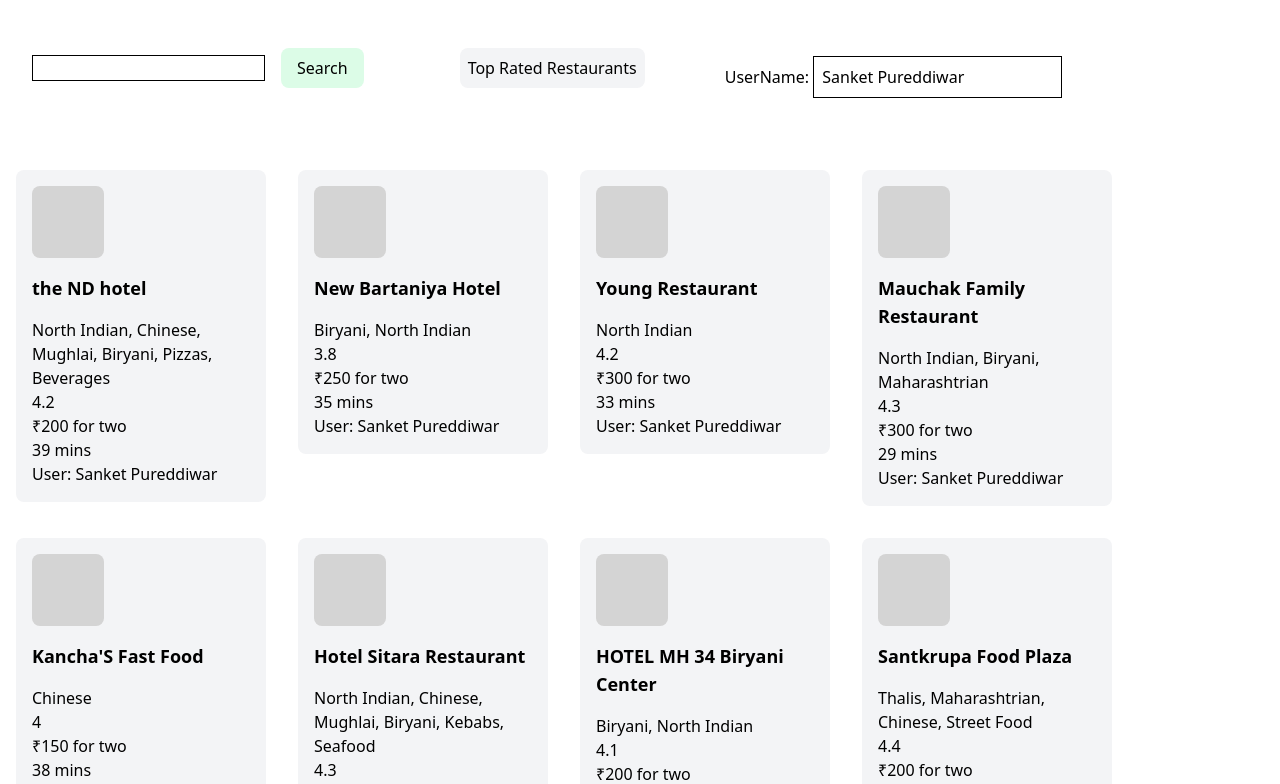
Test: Testing the search functionality › Should search res list for young restaurant input
Type "friends" into the field with test id "searchInput" at (148, 68), box [32, 55, 265, 81]
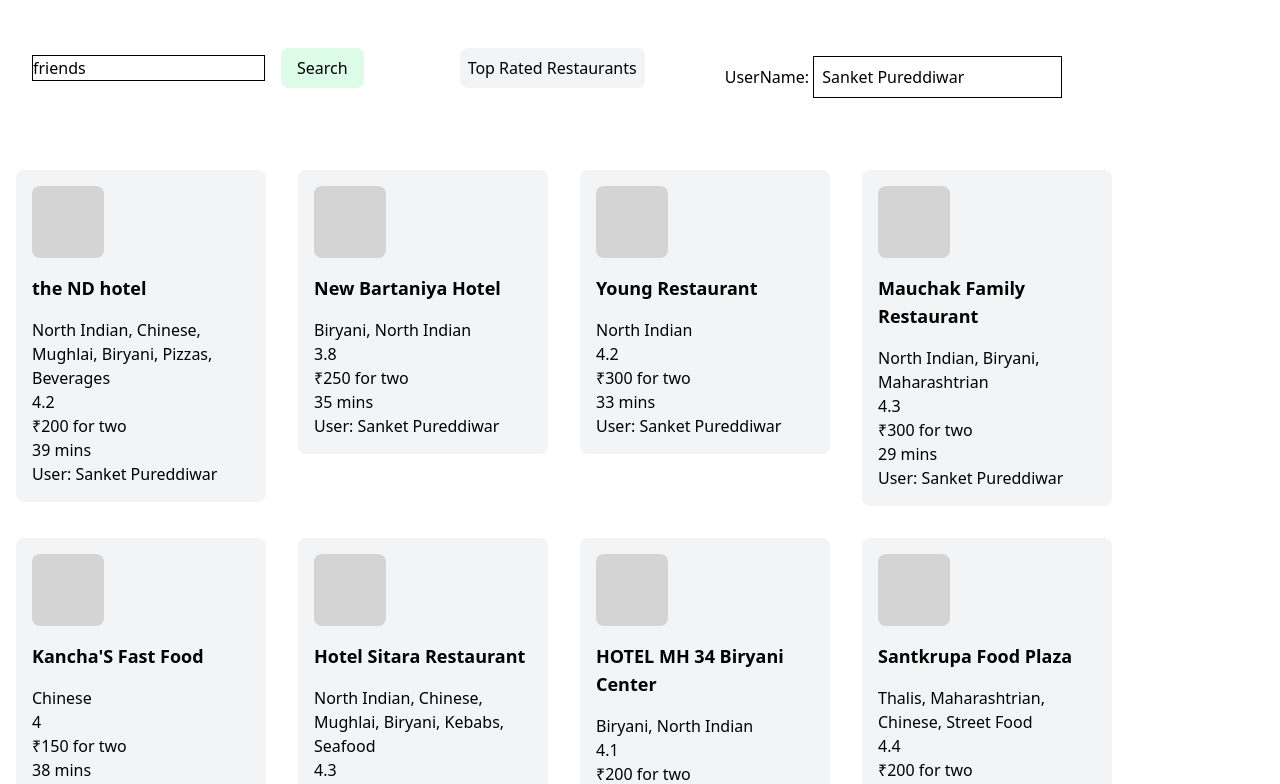
Click the button "Search" at (322, 68), box [281, 48, 364, 88]
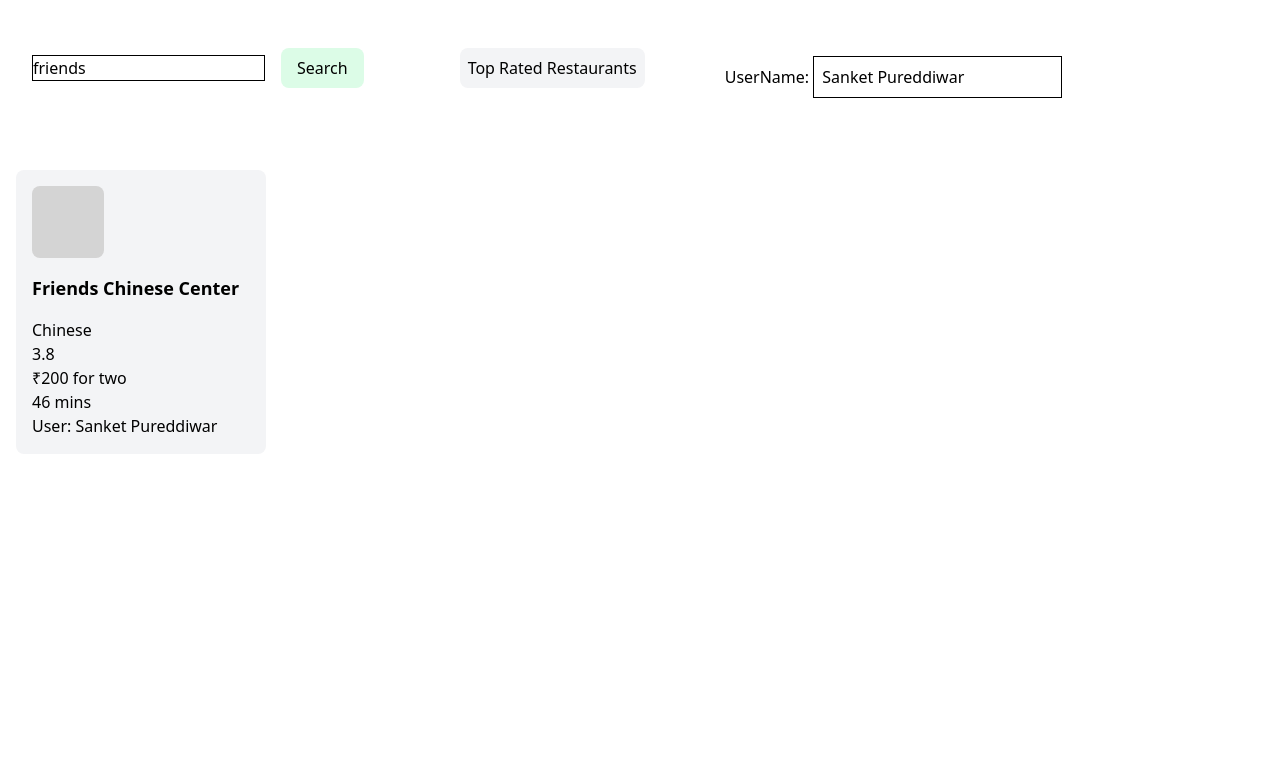
Expected: the number of elements with test id "resCard" is 1, [16, 170, 266, 454]
